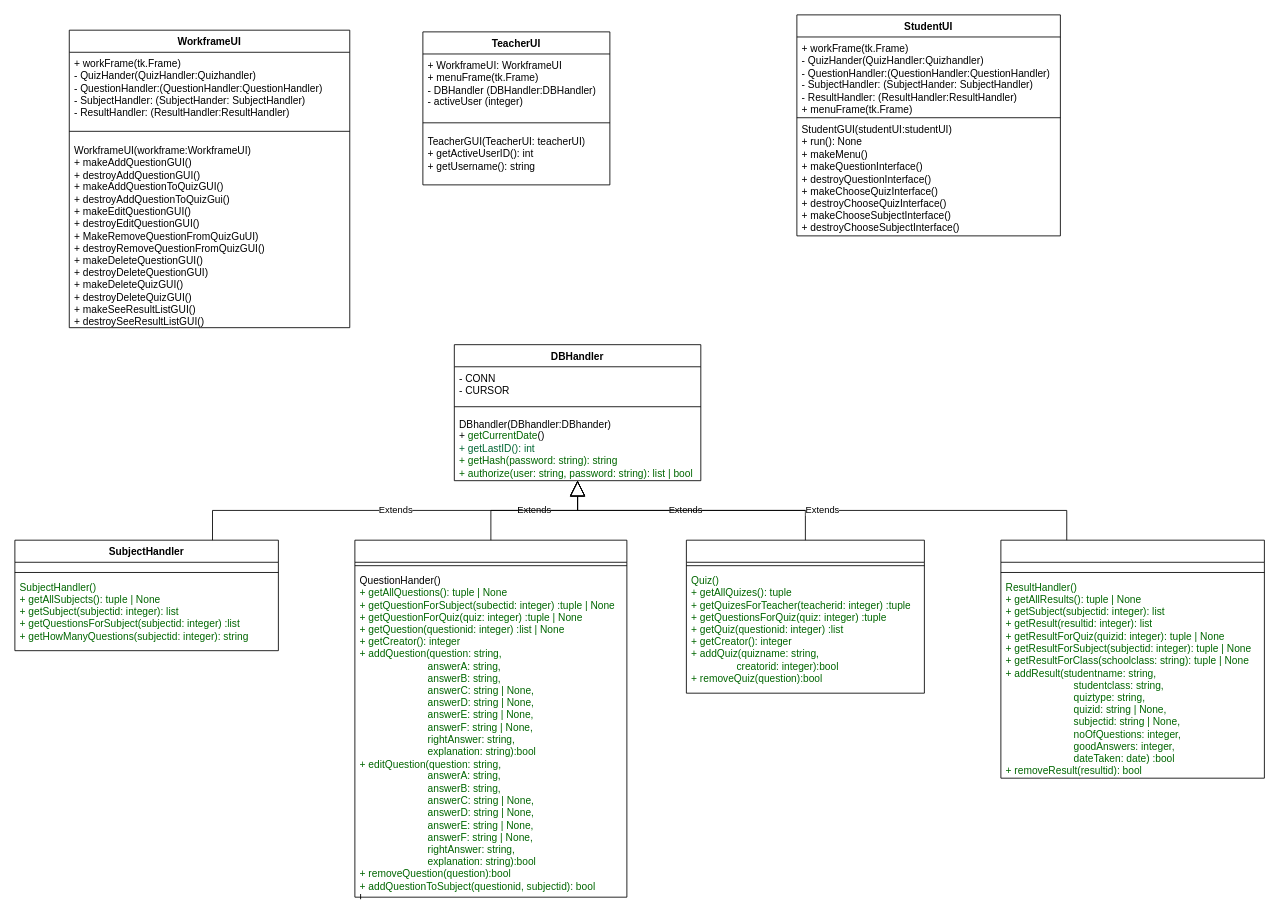
Some shapes in this 1279 by 919 pixel diagram are drawn without their labels. The box of each missing label's shape, as (x1, y1, x2, y2) in pixels:
QuestionHandler: (354, 539, 627, 897)
QuizHandler: (686, 539, 924, 693)
ResultHander: (1000, 539, 1264, 778)
